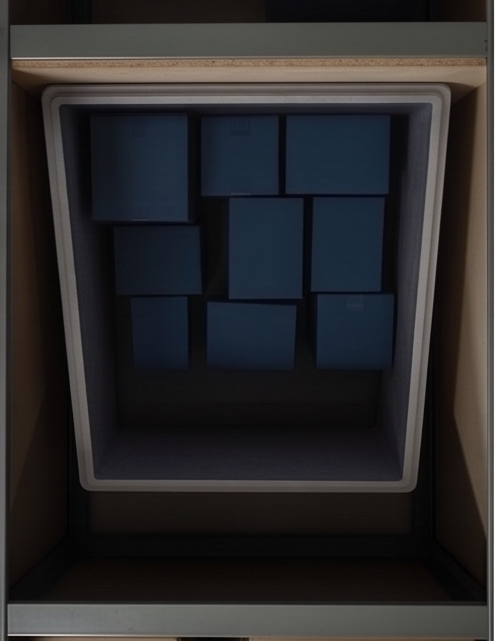blue_box: (91, 113, 199, 223), (286, 110, 395, 195), (229, 194, 305, 302), (315, 197, 390, 295), (114, 224, 206, 296), (316, 292, 400, 369), (201, 113, 279, 195), (207, 302, 299, 369), (130, 295, 190, 370)
container_box: (42, 84, 454, 492)
